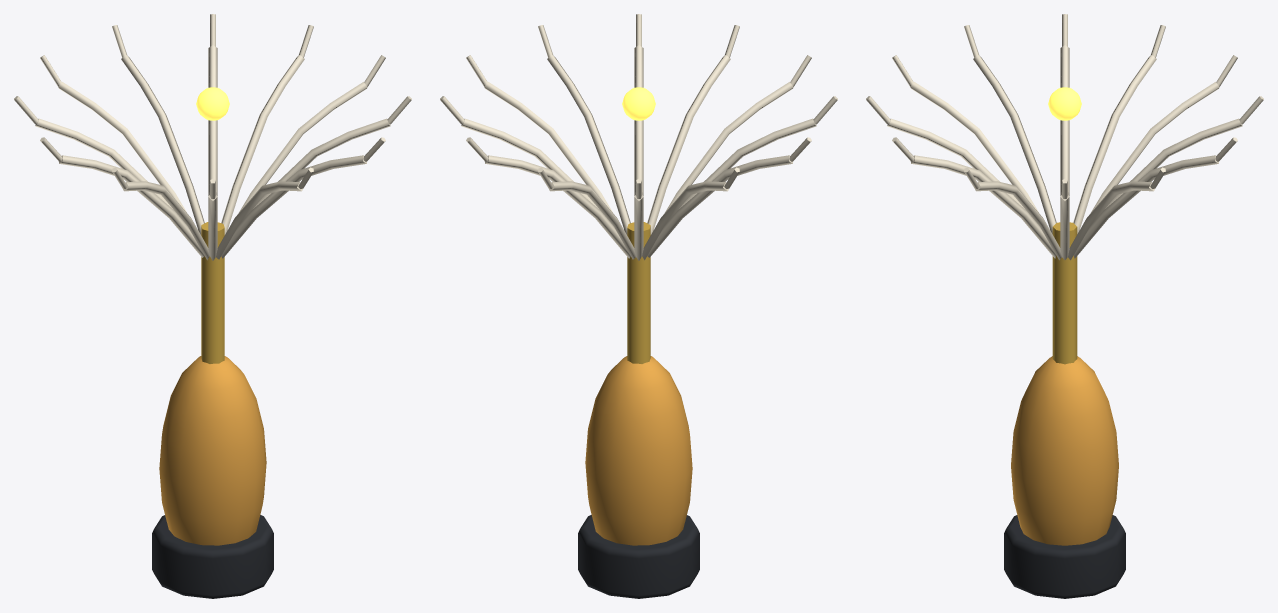
File: net_probe_spore.glb
The picture shows the model from 3 angles, left to right: view 1: azimuth 30°, elevation 25°; view 2: azimuth 150°, elevation 25°; view 3: azimuth 270°, elevation 25°; orthographic projection.
Visible parts, largest first — view 1: net_probe_spore_mesh; view 2: net_probe_spore_mesh; view 3: net_probe_spore_mesh.
Boxes of the visible parts, x1,y1,x2,y2 form: net_probe_spore_mesh: [14, 14, 411, 598]; net_probe_spore_mesh: [440, 14, 837, 598]; net_probe_spore_mesh: [866, 14, 1263, 598].
Bounding box in the file's own units: 0.0588 × 0.0795 × 0.0588.
